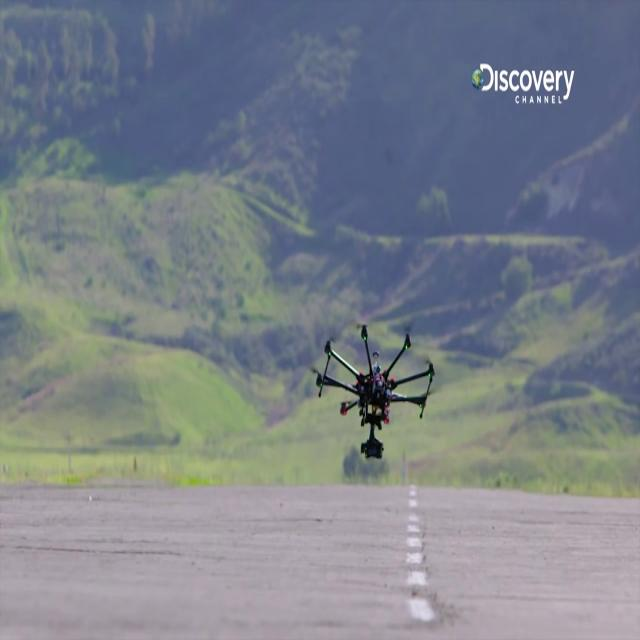drone: (305, 306, 446, 468)
